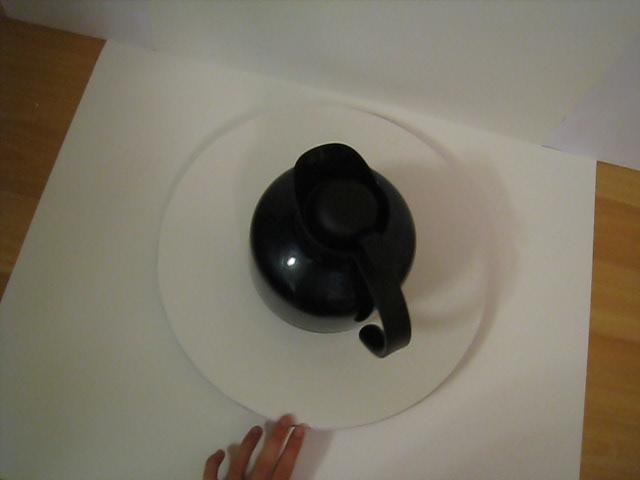pitcher: (235, 129, 452, 387)
